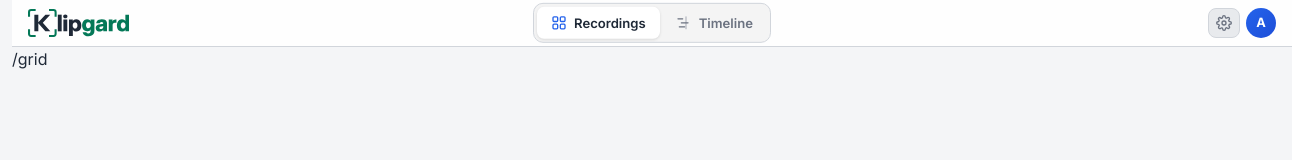
Test case: Header account menu [WEB-050] › [WEB-050] Escape closes the open menu
Click the button with test id "account-menu-button" at {"x": 1261, "y": 23}, box top-left (1246, 8), bottom-right (1276, 38)
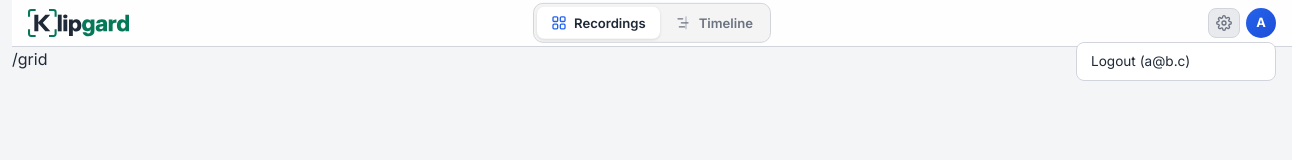
Now the menu is shown, box top-left (1076, 42), bottom-right (1276, 81)
Press Escape
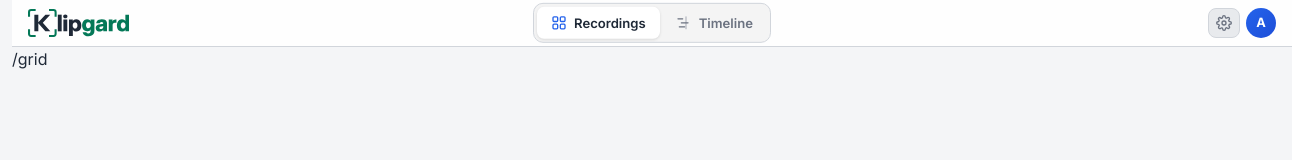
Now the menu is gone
